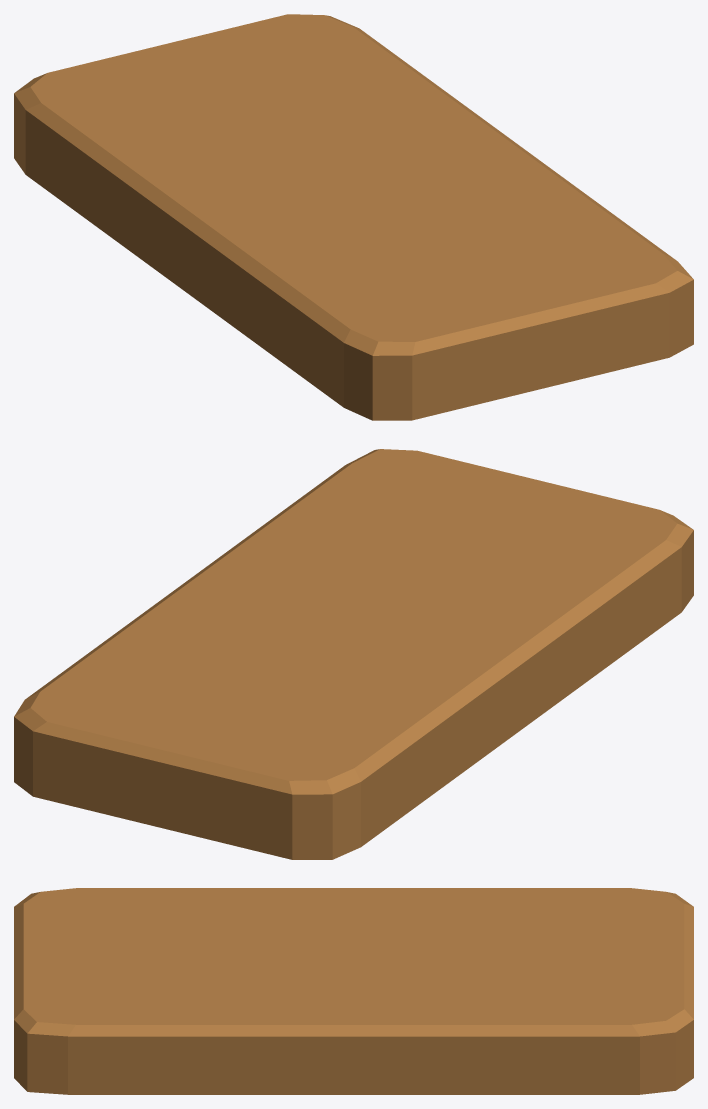
The model's file is Tanah kebun.fbx.
3 renders of one model, top to bottom at view 1: azimuth 30°, elevation 25°; view 2: azimuth 150°, elevation 25°; view 3: azimuth 270°, elevation 25°, orthographic. The views are drawn at different scales.
Parts seen in each view (by area): view 1: Cube.034; view 2: Cube.034; view 3: Cube.034.
Boxes of the visible parts, bbox=[...] form: Cube.034: bbox=[14, 14, 693, 420]; Cube.034: bbox=[14, 449, 693, 859]; Cube.034: bbox=[14, 888, 693, 1094].
Bounding box in the file's own units: 1036 × 215 × 2033.
